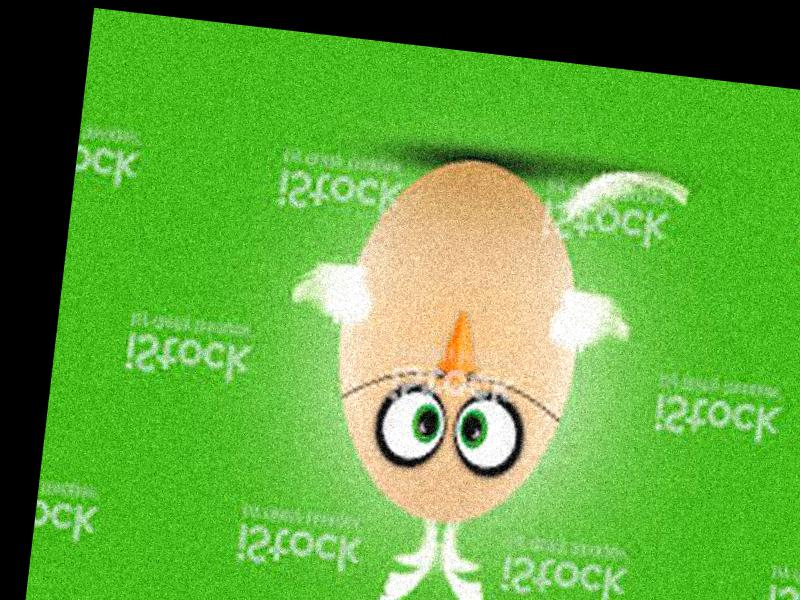Eggs: (323, 144, 597, 536)
